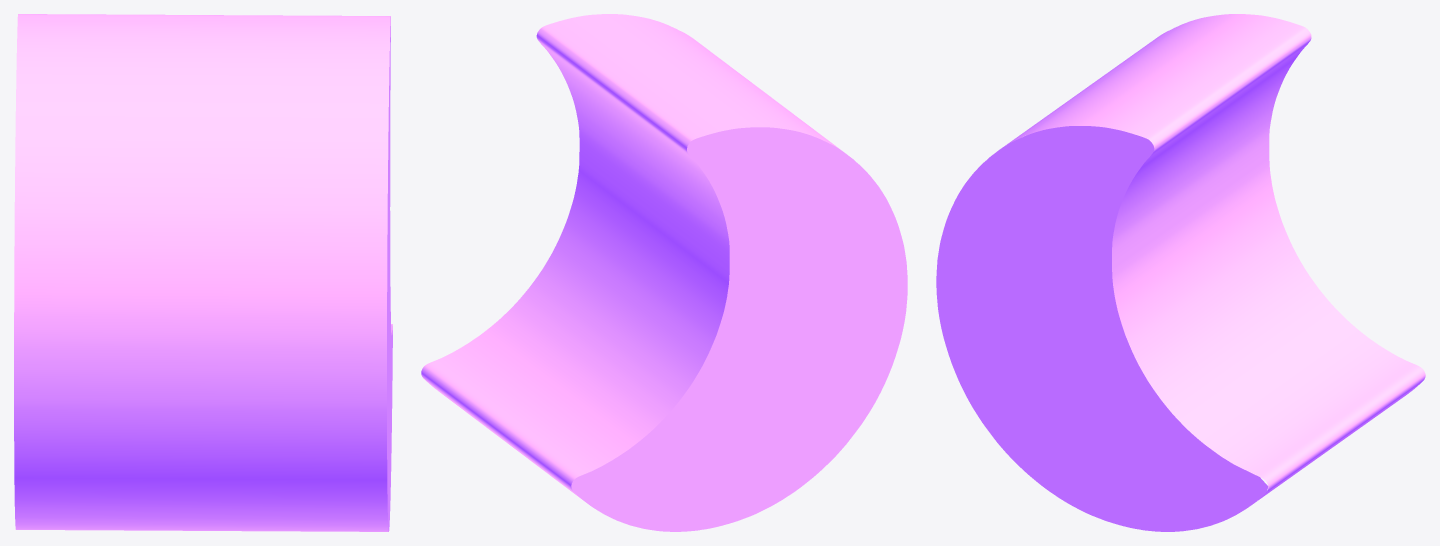
Rendered from clearNightDraco.gltf.
3 views of the same model, side by side, from view 1: azimuth 30°, elevation 25°; view 2: azimuth 150°, elevation 25°; view 3: azimuth 270°, elevation 25° (orthographic). The views are drawn at different scales.
Visible parts, largest first — view 1: path119.001; view 2: path119.001; view 3: path119.001.
Boxes of the visible parts, x1,y1,x2,y2 form: path119.001: [14, 14, 392, 531]; path119.001: [421, 14, 907, 531]; path119.001: [936, 14, 1425, 531].
Bounding box in the file's own units: 4.64 × 4.38 × 4.92.
